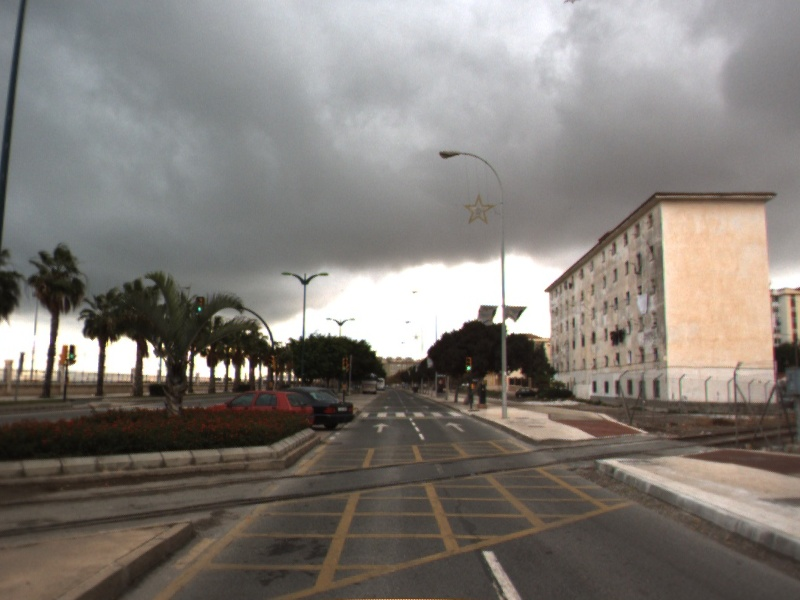STRAIGHT: (443, 420, 467, 434), (370, 421, 392, 434)
